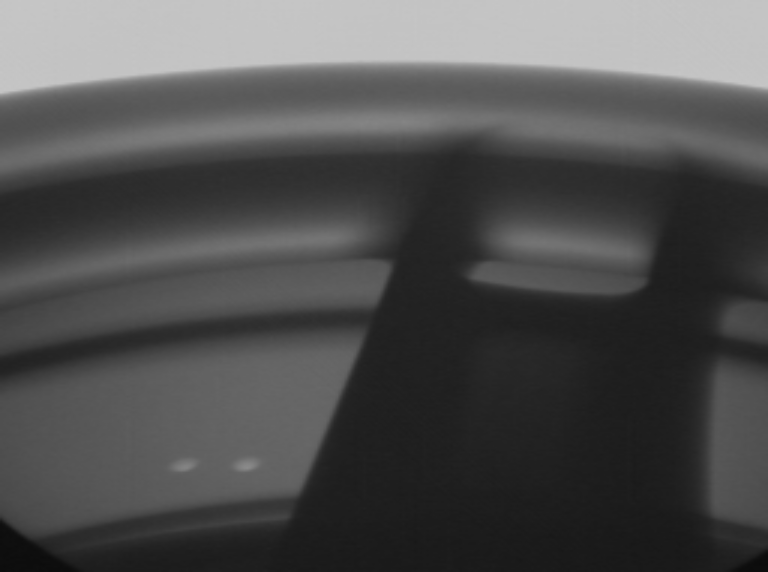defect: (234, 451, 264, 483)
